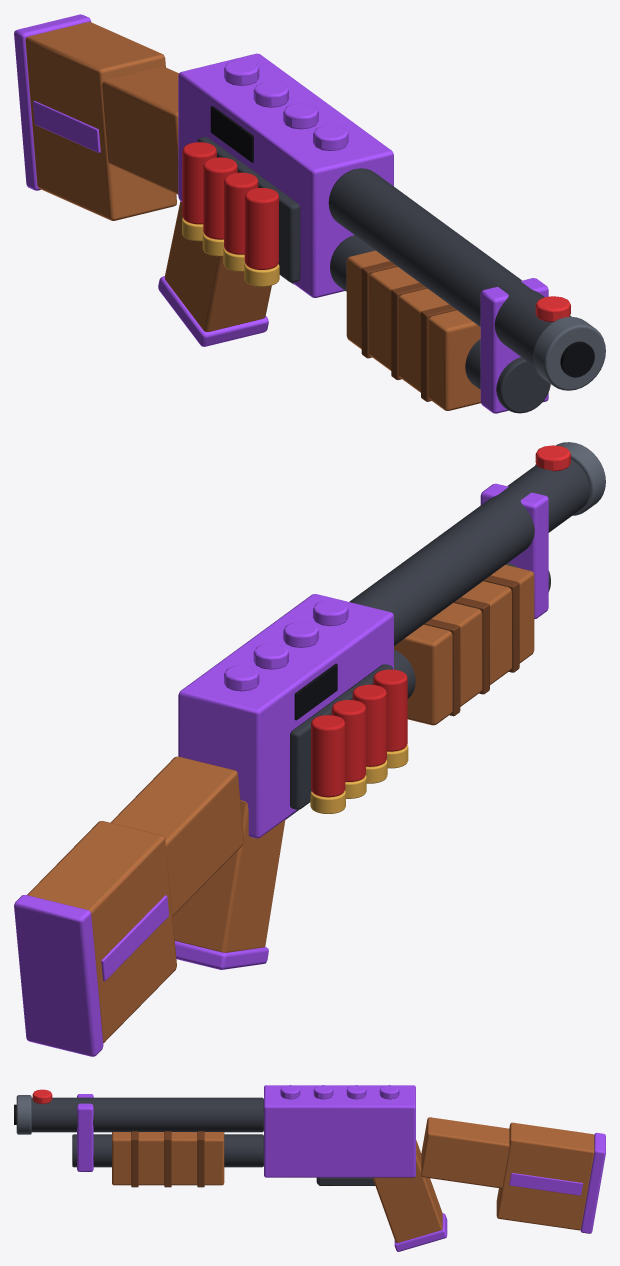
The model's file is Shotgun.fbx.
3 views of the same model, one above another, from view 1: azimuth 30°, elevation 25°; view 2: azimuth 150°, elevation 25°; view 3: azimuth 270°, elevation 25° (orthographic). The views are drawn at different scales.
Visible parts, largest first — view 1: Shotgun_Plastic, Shotgun_SmoothPlastic, Shotgun_Metal, Shotgun_Foil; view 2: Shotgun_SmoothPlastic, Shotgun_Plastic, Shotgun_Metal, Shotgun_Foil; view 3: Shotgun_Plastic, Shotgun_SmoothPlastic, Shotgun_Metal.
Part boxes in pixels (bbox=[...]): Shotgun_Plastic: bbox=[25, 22, 480, 410]; Shotgun_SmoothPlastic: bbox=[14, 14, 594, 413]; Shotgun_Metal: bbox=[197, 137, 605, 413]; Shotgun_Foil: bbox=[182, 217, 279, 286]; Shotgun_SmoothPlastic: bbox=[14, 445, 570, 1056]; Shotgun_Plastic: bbox=[27, 564, 534, 1043]; Shotgun_Metal: bbox=[285, 442, 605, 819]; Shotgun_Foil: bbox=[310, 744, 408, 813]; Shotgun_Plastic: bbox=[112, 1117, 594, 1242]; Shotgun_SmoothPlastic: bbox=[14, 1085, 605, 1251]; Shotgun_Metal: bbox=[16, 1095, 375, 1185].
Size of the model in its own units: 0.492 by 1.04 by 3.58.
Materials: 4 (4 with a texture image).
